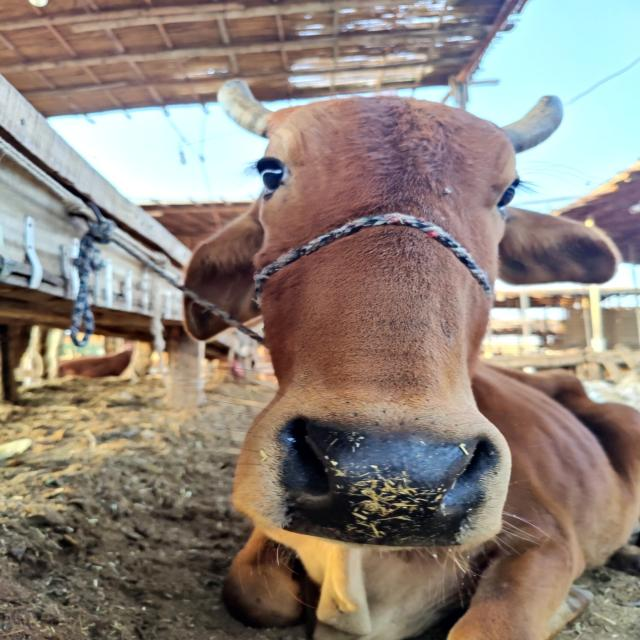muzzles: (276, 407, 488, 551)
